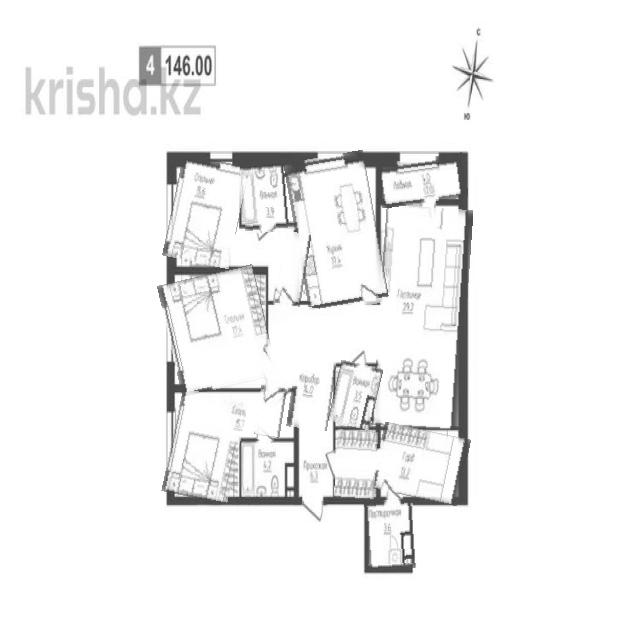balcony: (378, 155, 467, 206)
bathroom: (241, 159, 296, 233), (365, 499, 416, 571), (240, 439, 299, 500), (331, 361, 380, 428)
hallway: (262, 232, 303, 438), (290, 307, 339, 430), (294, 428, 334, 495)
kitchen: (290, 153, 383, 312)
living_room: (375, 206, 470, 429), (163, 269, 273, 393), (167, 157, 245, 267), (166, 391, 243, 502)
other: (374, 426, 468, 502), (335, 430, 377, 499)
